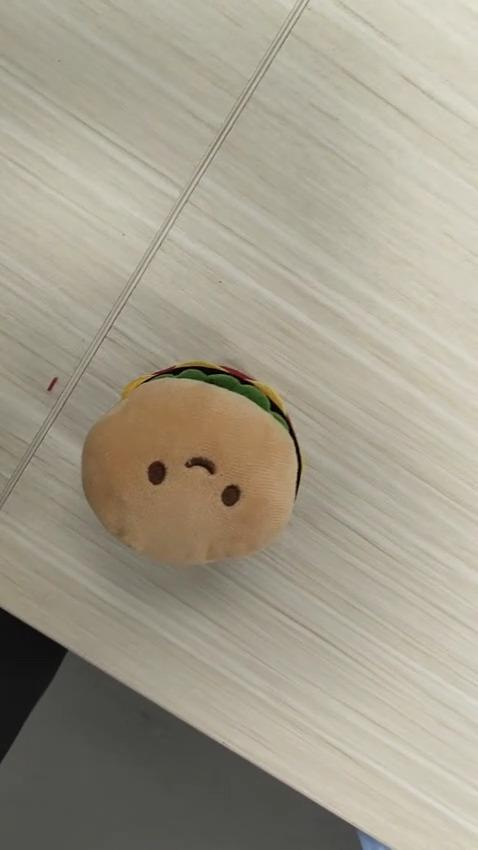hamburger: (79, 359, 304, 568)
